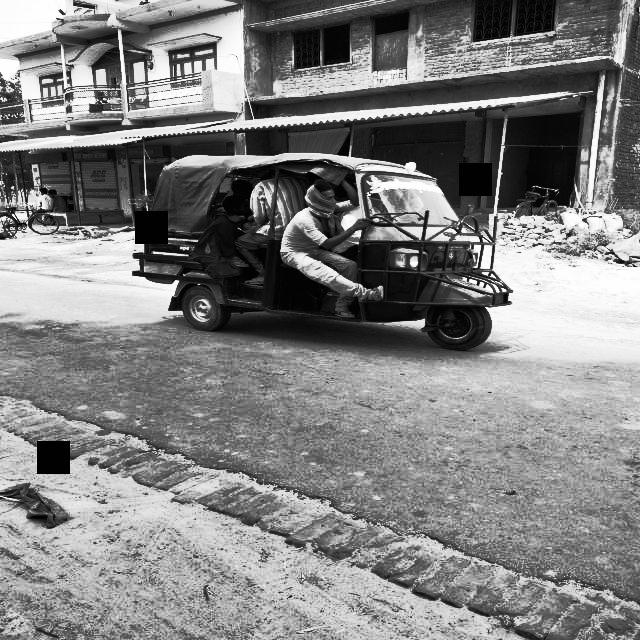Auto-Rickshaw: (144, 151, 516, 358)
